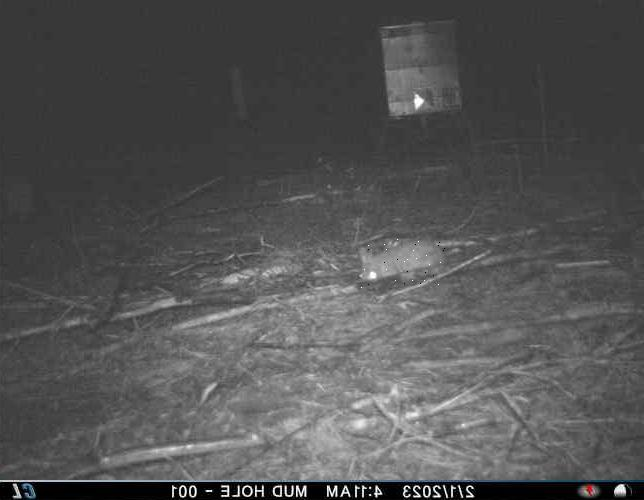Rabbit: (359, 237, 448, 288)
